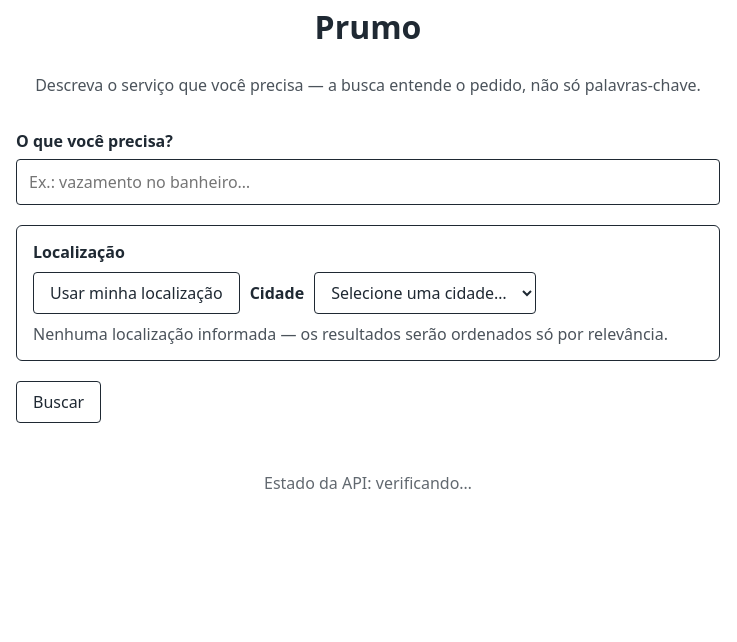
Test: App — tela de busca › lista vazia por RAIO (totalCandidates: 0) — distinta de "ninguém relevante"
The image size is (737, 642).
Type "costura de roupa de festa" into the field labelled "O que você precisa?". click: (368, 182)
box: [16,159,720,205]
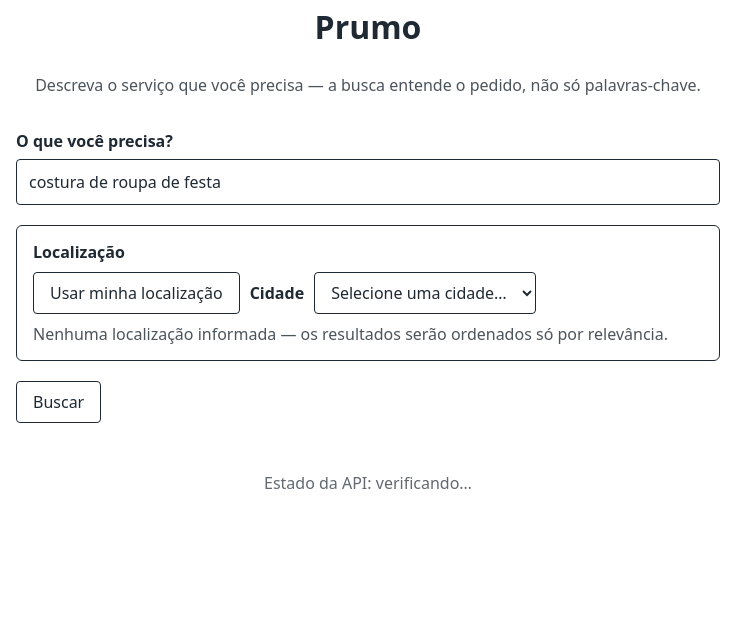
Click the button "Buscar". click: (59, 402)
box: [16,381,101,423]
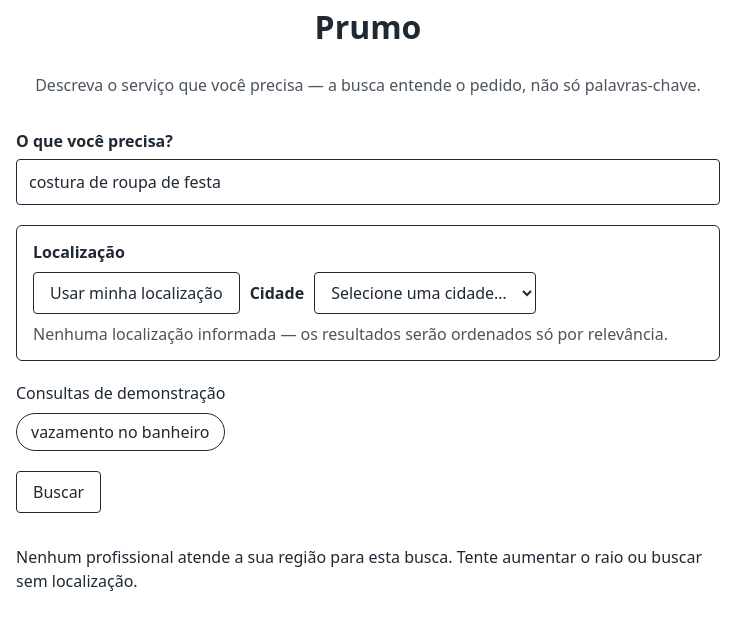
Check: the text "Nenhum profissional atende a sua região" is shown, box [16,546,702,592]
